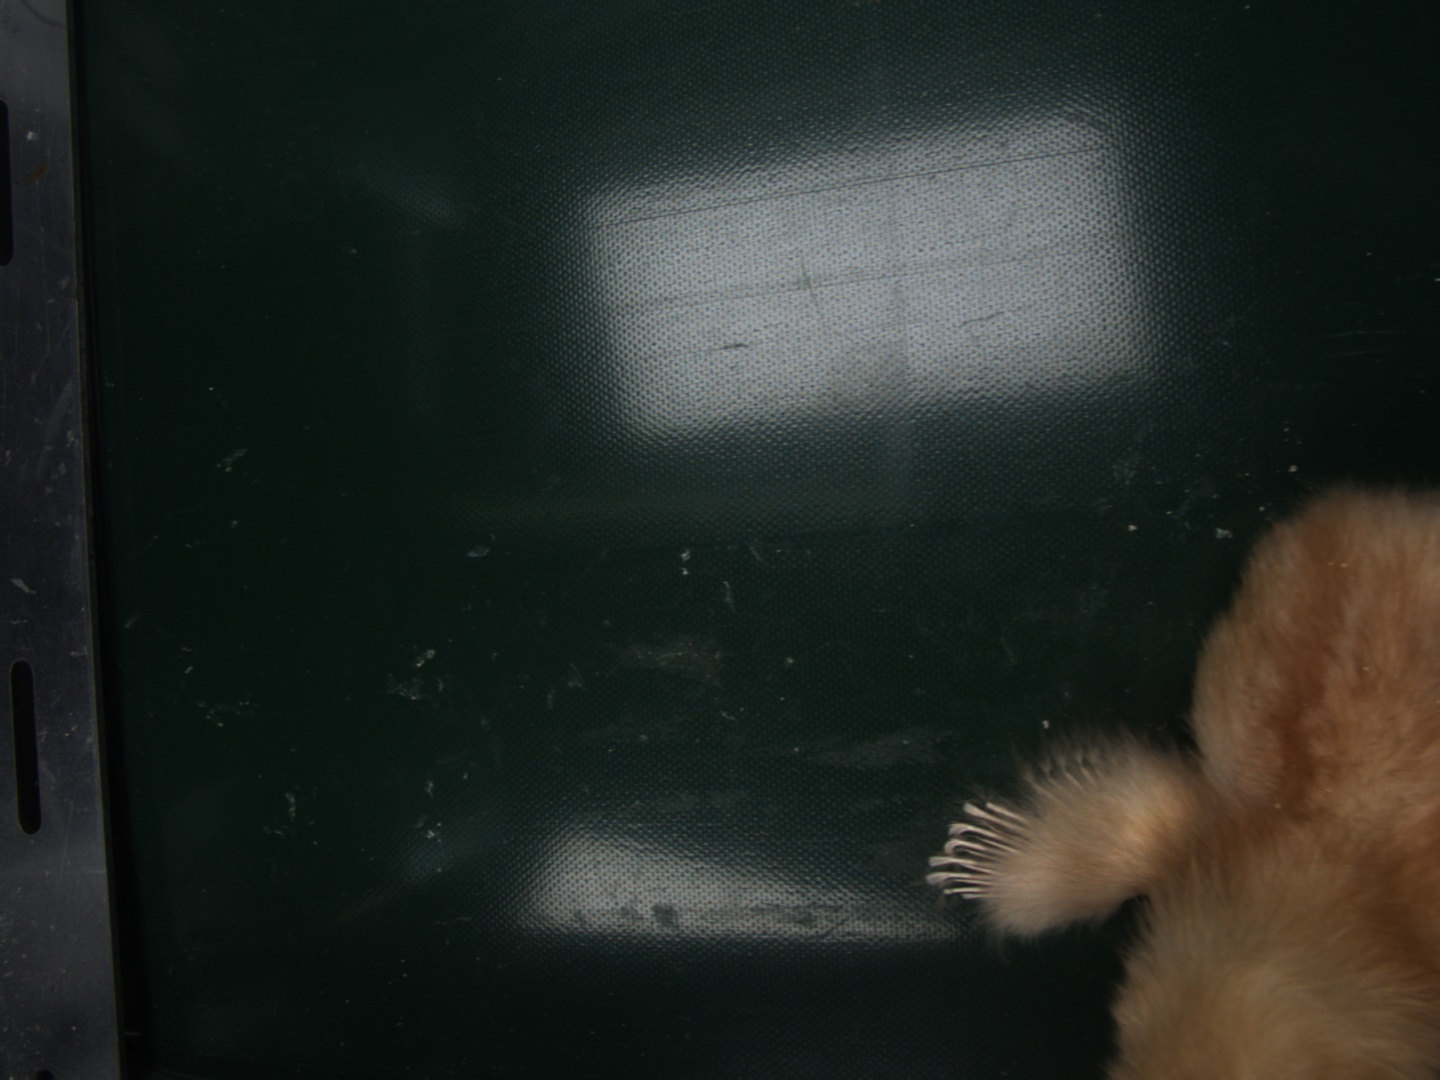female: (930, 799, 1044, 901)
